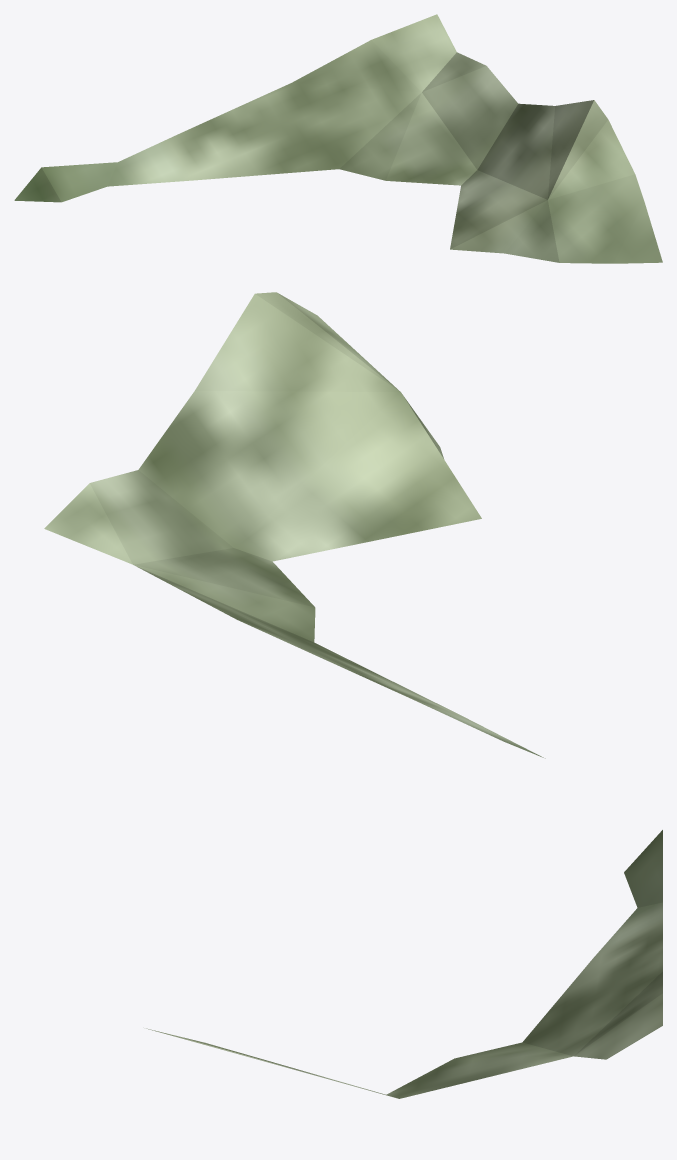
3 views of the same model, one above another, from view 1: azimuth 30°, elevation 25°; view 2: azimuth 150°, elevation 25°; view 3: azimuth 270°, elevation 25° (orthographic). The views are drawn at different scales.
Bounding box in the file's own units: 0.8922 × 0.2267 × 0.8241.
1 material, 1 textured.
